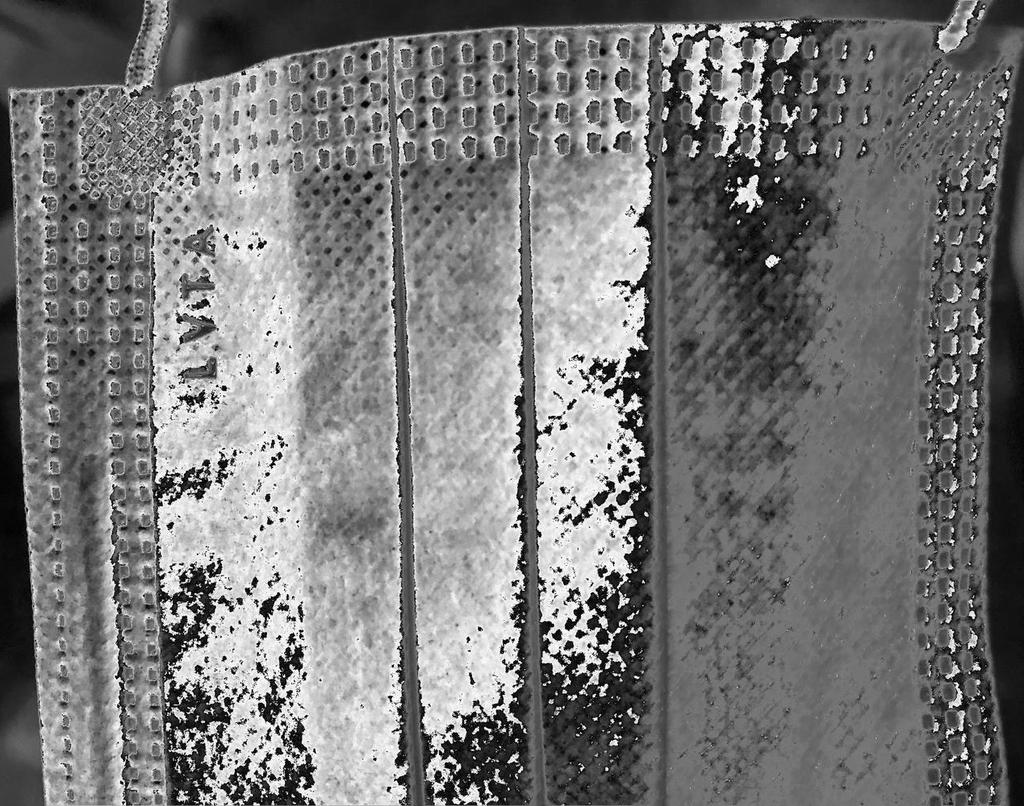High GSM: (150, 193, 646, 798)
